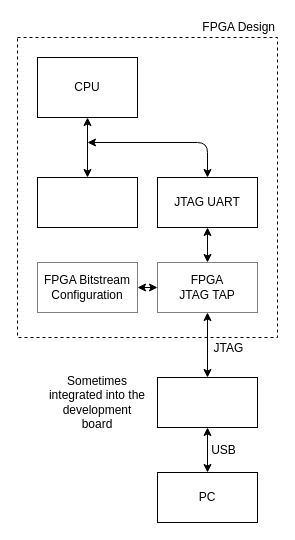
The diagram is 295 pixels wide and 540 high, and some of its shapes have lost their labels. The shapes that lost their labels are listed below. From the top down, each one's centre as x and y in pixels, then its label:
At point (87, 202): "RAM".
At point (207, 402): "JTAG Dongle".
